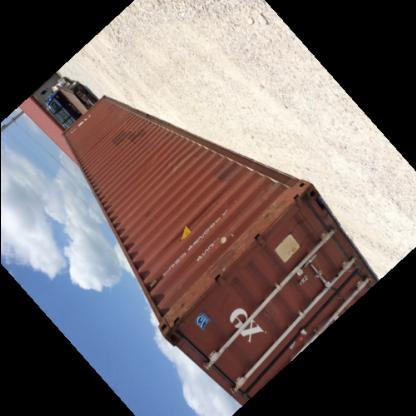Damage: (226, 177, 290, 263), (168, 256, 229, 334)
